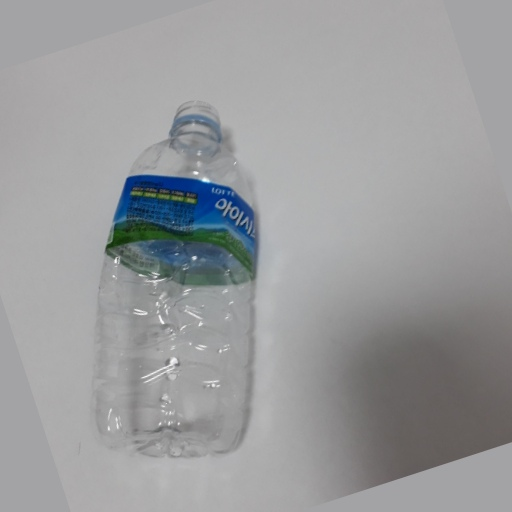Plastic_0: (93, 98, 262, 456)
